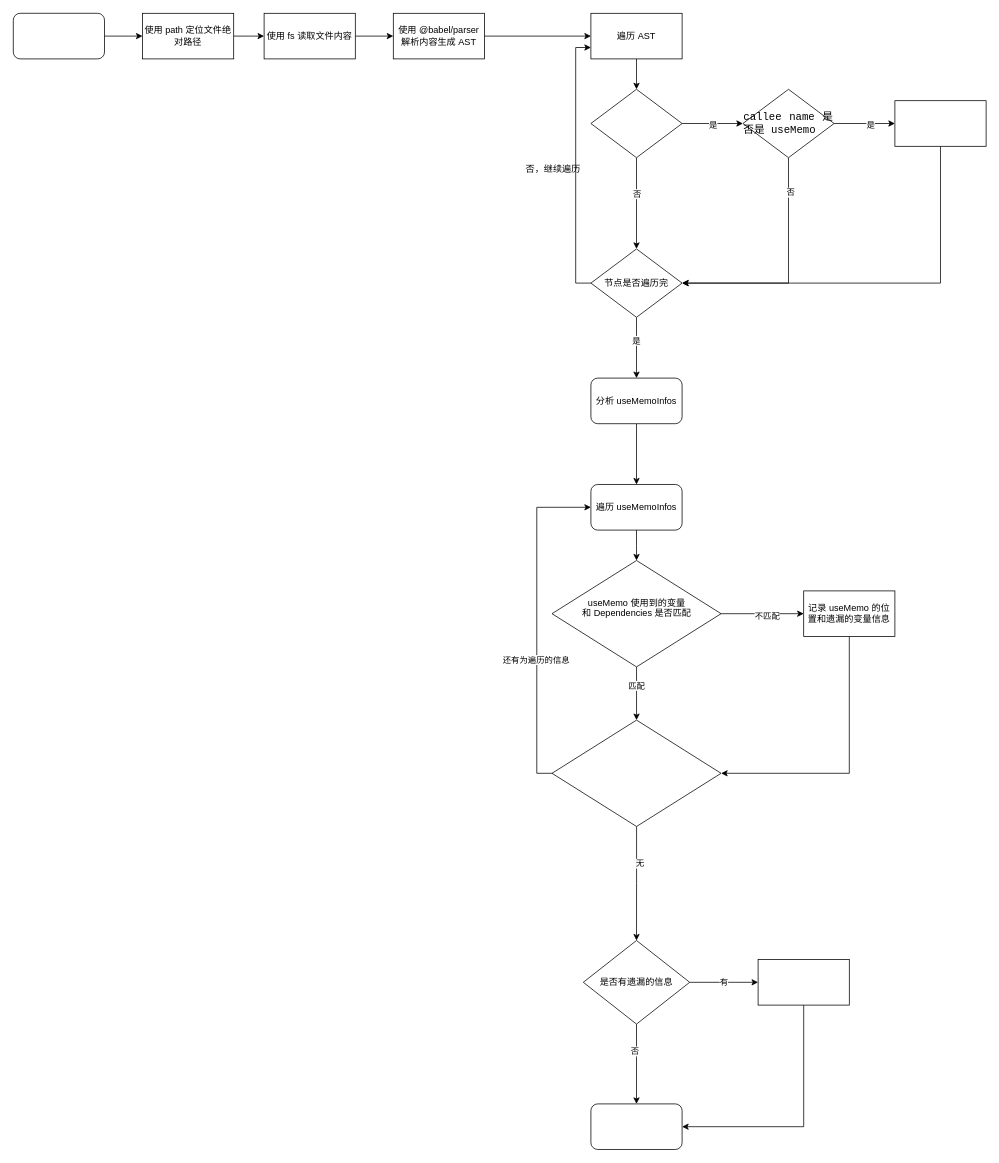
Some shapes in this 999 by 1163 pixel diagram are drawn without their labels. Each missing label, with the centre of its shape:
"向 useMemoInfos 中添加相关信息" belongs at (x=940, y=123).
"开始" belongs at (x=58, y=36).
"打印报告" belongs at (x=803, y=982).
"是否还有未遍历的信息" belongs at (x=636, y=772).
"结束" belongs at (x=636, y=1126).
"节点类型是否是 CallExpression" belongs at (x=636, y=123).
